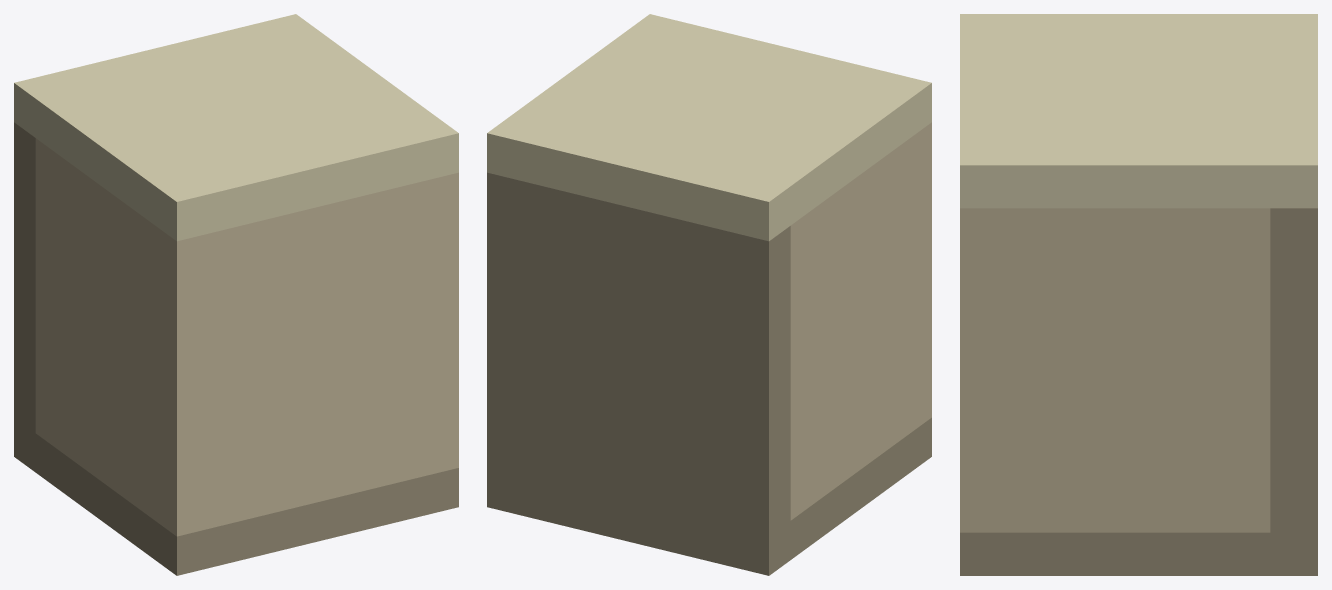
The model's file is estanteria_pociones_pino_01.glb.
3 views of the same model, side by side, from view 1: azimuth 30°, elevation 25°; view 2: azimuth 150°, elevation 25°; view 3: azimuth 270°, elevation 25° (orthographic). The views are drawn at different scales.
Visible parts, largest first — view 1: estanteria_pociones_pino; view 2: estanteria_pociones_pino; view 3: estanteria_pociones_pino.
Part boxes in pixels (bbox=[...]): estanteria_pociones_pino: bbox=[14, 14, 458, 575]; estanteria_pociones_pino: bbox=[487, 14, 931, 575]; estanteria_pociones_pino: bbox=[960, 14, 1317, 575].
Size of the model in its own units: 1 by 1.27 by 1.
